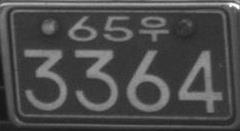3: (22, 47, 68, 111), (73, 48, 119, 111)
4: (178, 49, 223, 113)
5: (102, 15, 133, 42)
6: (125, 50, 170, 112), (67, 15, 97, 42)
우: (138, 15, 170, 42)
